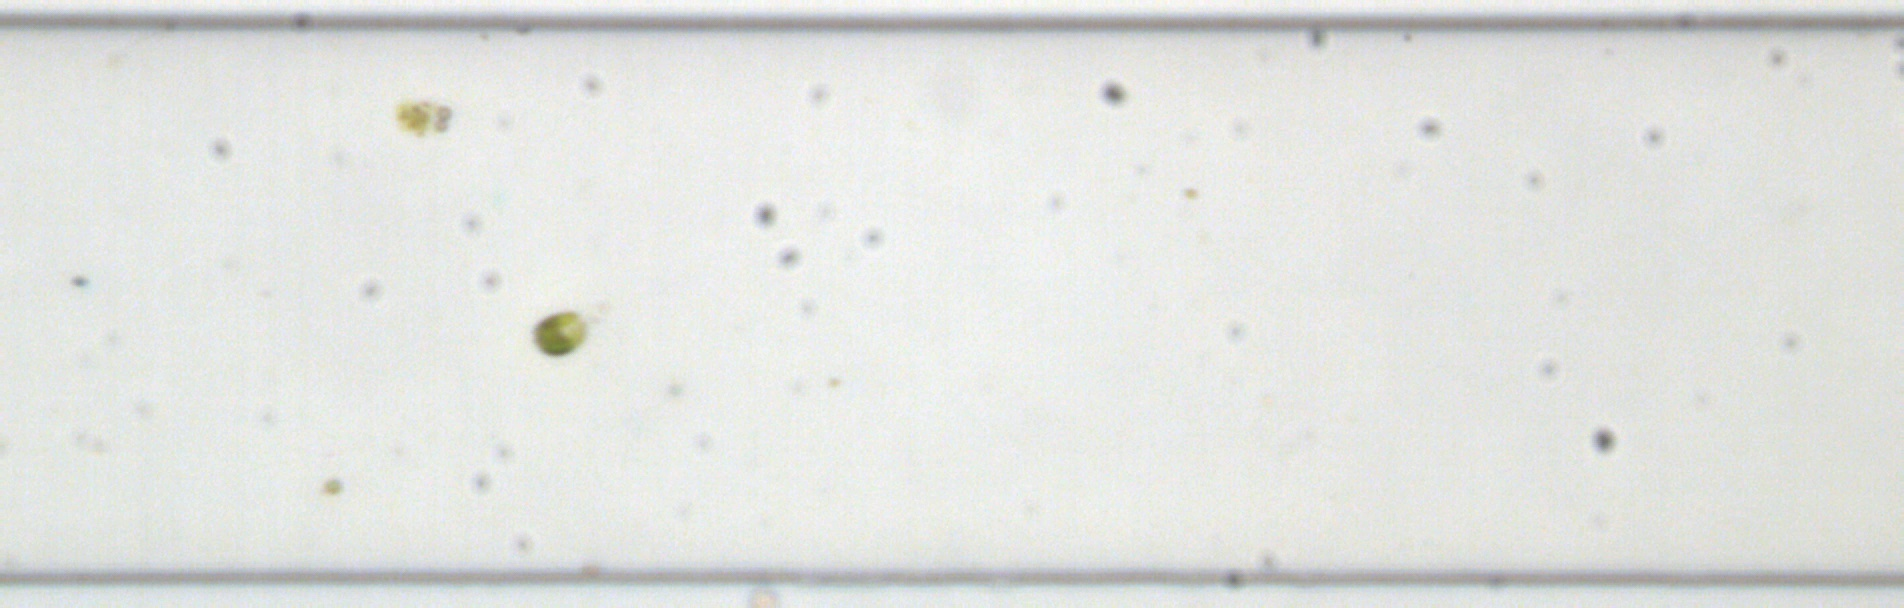Chlorella: (432, 117, 449, 133), (433, 103, 450, 119)
Platymonas: (529, 307, 586, 359), (323, 476, 345, 496)
